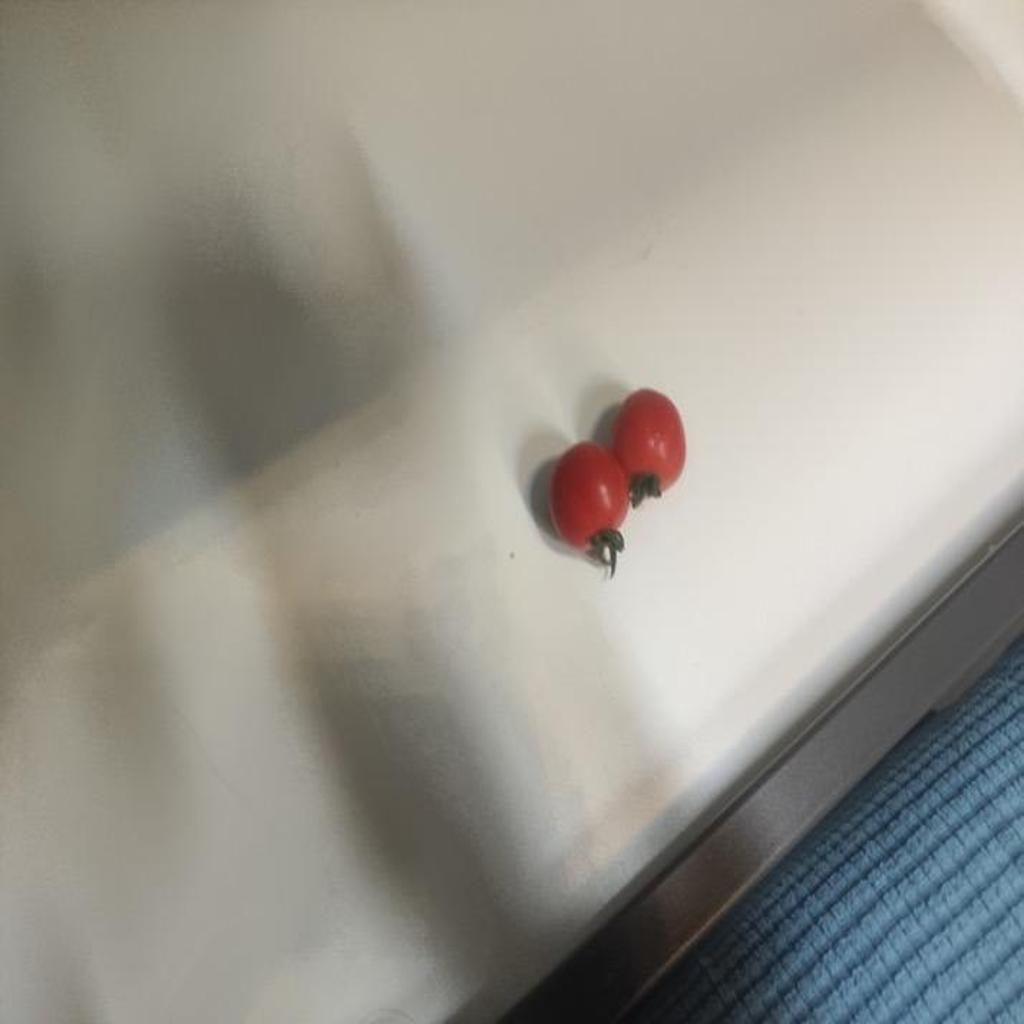tomato: (538, 446, 632, 562), (615, 383, 703, 506)
